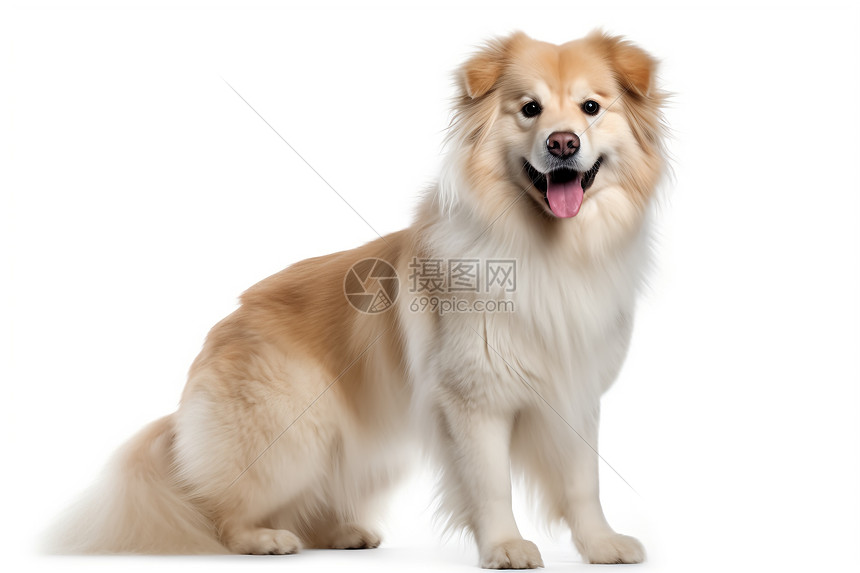dog: (440, 20, 681, 244)
